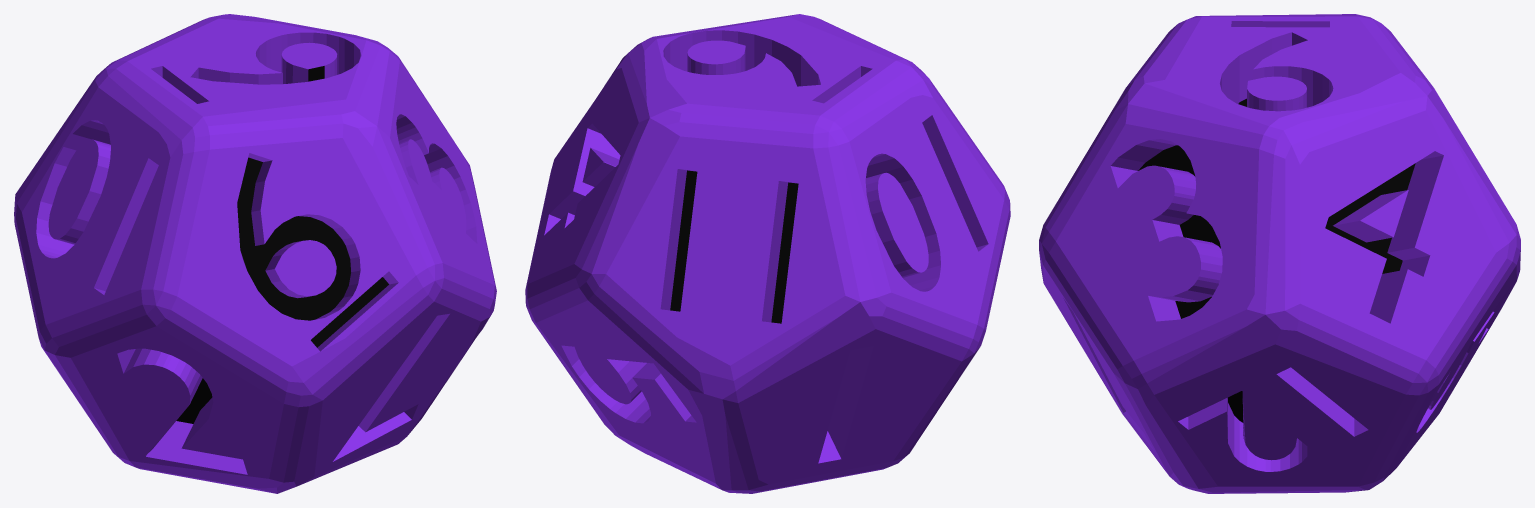
3 views of the same model, side by side, from view 1: azimuth 30°, elevation 25°; view 2: azimuth 150°, elevation 25°; view 3: azimuth 270°, elevation 25° (orthographic). The views are drawn at different scales.
Visible parts, largest first — view 1: D12; view 2: D12; view 3: D12.
Part boxes in pixels (<box>): D12: <box>14,14,496,493</box>; D12: <box>525,14,1010,493</box>; D12: <box>1039,14,1520,493</box>.
Size of the model in its own units: 24.67 by 21 by 23.83.
